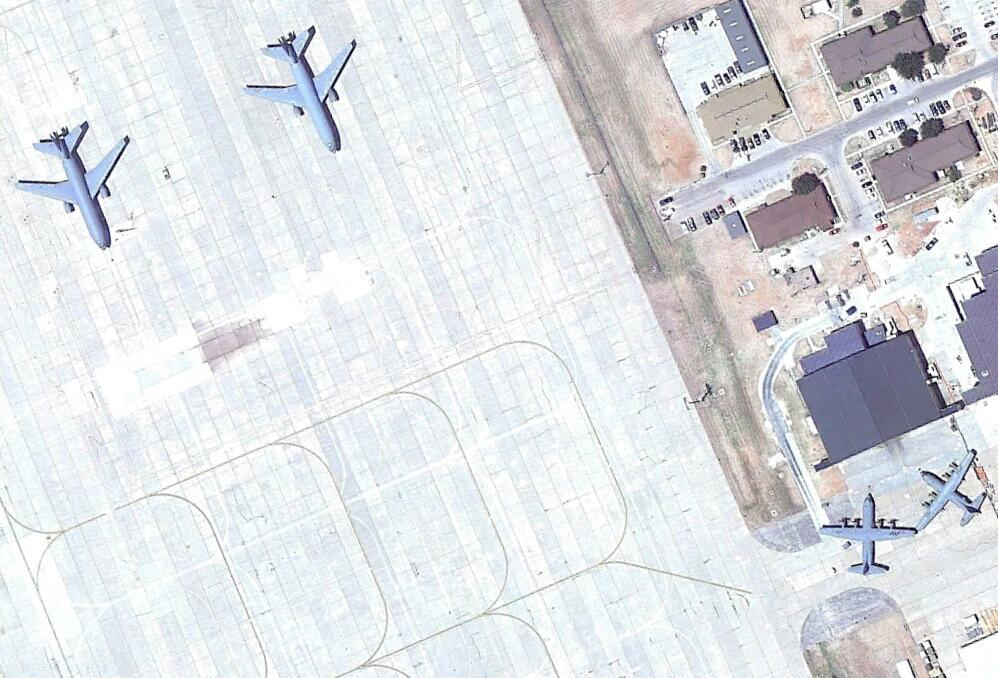A18: (239, 22, 367, 157), (12, 118, 137, 250)
A2: (817, 490, 915, 576), (919, 449, 988, 536)
